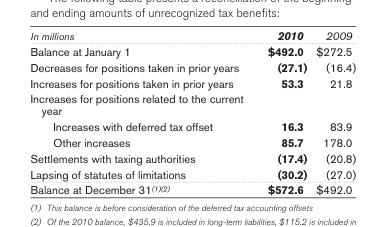table: (29, 28, 355, 196)
table column: (29, 28, 252, 196), (252, 28, 310, 196), (310, 28, 355, 196)
table column header: (29, 28, 355, 43)
table projected row header: (29, 90, 355, 118)
table row: (29, 90, 355, 118), (29, 58, 355, 74), (29, 74, 355, 90), (29, 118, 355, 134), (29, 149, 355, 165), (29, 165, 355, 181), (29, 28, 355, 43), (29, 43, 355, 58), (29, 134, 355, 149), (29, 181, 355, 196)
